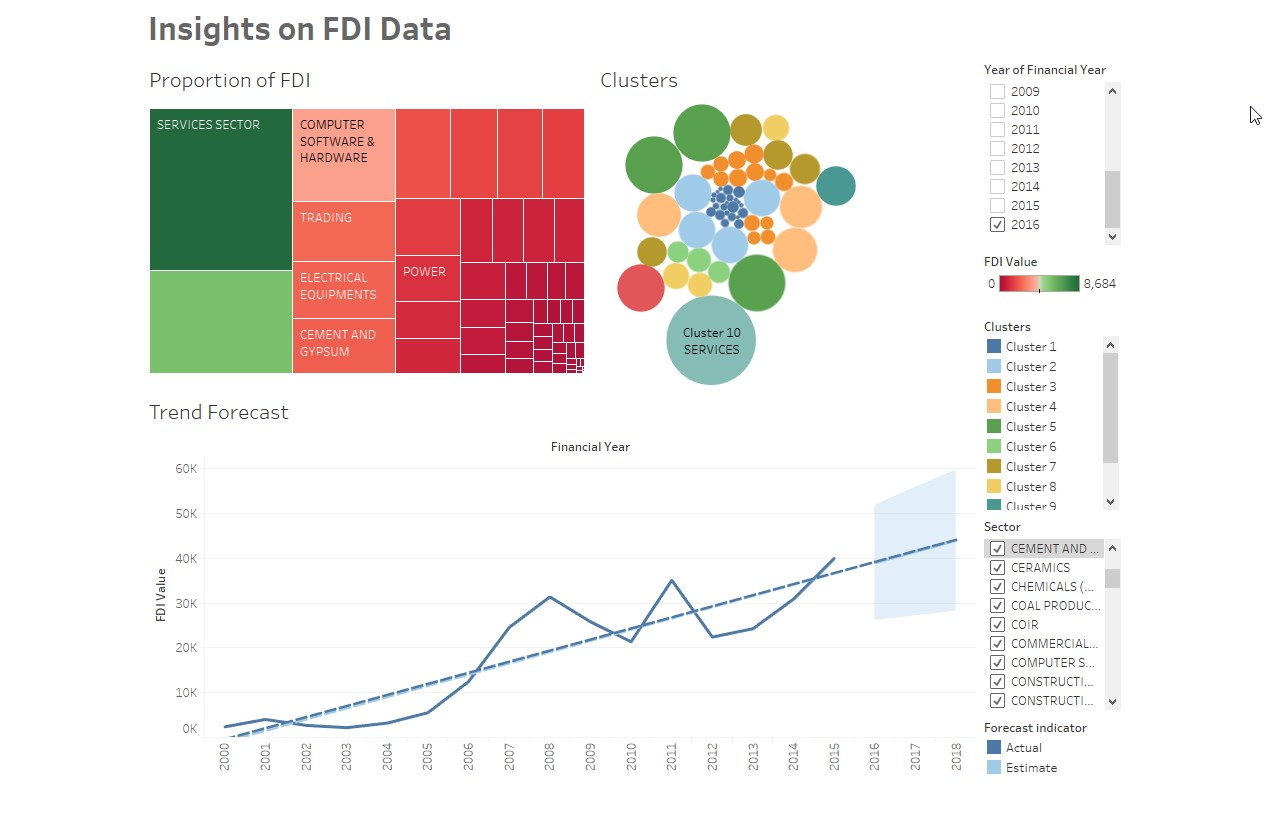

Layout of this report page (visuals, bound fields, positions):
{"tool":"tableau","page":{"name":"Dashboard 1","canvas":[1000,800],"ordinal":0},"visuals":[{"type":"text","box":[8,8,984,60]},{"type":"worksheet","title":"Proportion of FDI","mark":"Automatic","box":[8,68,451,332]},{"type":"worksheet","title":"Clusters","mark":"Circle","box":[459,68,388,332]},{"type":"filter","title":"Proportion of FDI","param":"[federated.1s35yo31hqfg2m1gu4znp0r8fspq].[yr:Calculation_796855694231257088:ok]","box":[847,68,145,192]},{"type":"legend","title":"Proportion of FDI","param":"[federated.1s35yo31hqfg2m1gu4znp0r8fspq].[sum:Pivot Field Values:qk]","box":[847,260,145,65]},{"type":"legend","title":"Clusters","param":"[federated.1s35yo31hqfg2m1gu4znp0r8fspq].[none:AdhocCluster:1:ok]","box":[847,325,145,200.5]},{"type":"worksheet","title":"Trend Forecast","mark":"Automatic","rows":["Pivot Field Values"],"cols":["Calculation_796855694231257088"],"box":[8,400,839,392]},{"type":"filter","title":"Trend Forecast","param":"[federated.1s35yo31hqfg2m1gu4znp0r8fspq].[none:Sector:nk]","box":[847,525.5,145,200.5]},{"type":"legend","title":"Trend Forecast","param":"[federated.1s35yo31hqfg2m1gu4znp0r8fspq].[none:Forecast Indicator:nk]","box":[847,726,145,66]}]}

Visuals, with their boxes on the page's 1000x800 design canvas (x1, y1, x2, y2). These are canvas units, not pixel positions in the 1272x822 screenshot, which may show the page scaled, cropped or inside an application window:
text: pyautogui.locateOnScreen(8, 8, 992, 68)
"Proportion of FDI" worksheet: pyautogui.locateOnScreen(8, 68, 459, 400)
"Clusters" worksheet (Circle marks): pyautogui.locateOnScreen(459, 68, 847, 400)
"Proportion of FDI" filter: pyautogui.locateOnScreen(847, 68, 992, 260)
"Proportion of FDI" legend: pyautogui.locateOnScreen(847, 260, 992, 325)
"Clusters" legend: pyautogui.locateOnScreen(847, 325, 992, 526)
"Trend Forecast" worksheet: pyautogui.locateOnScreen(8, 400, 847, 792)
"Trend Forecast" filter: pyautogui.locateOnScreen(847, 526, 992, 726)
"Trend Forecast" legend: pyautogui.locateOnScreen(847, 726, 992, 792)
